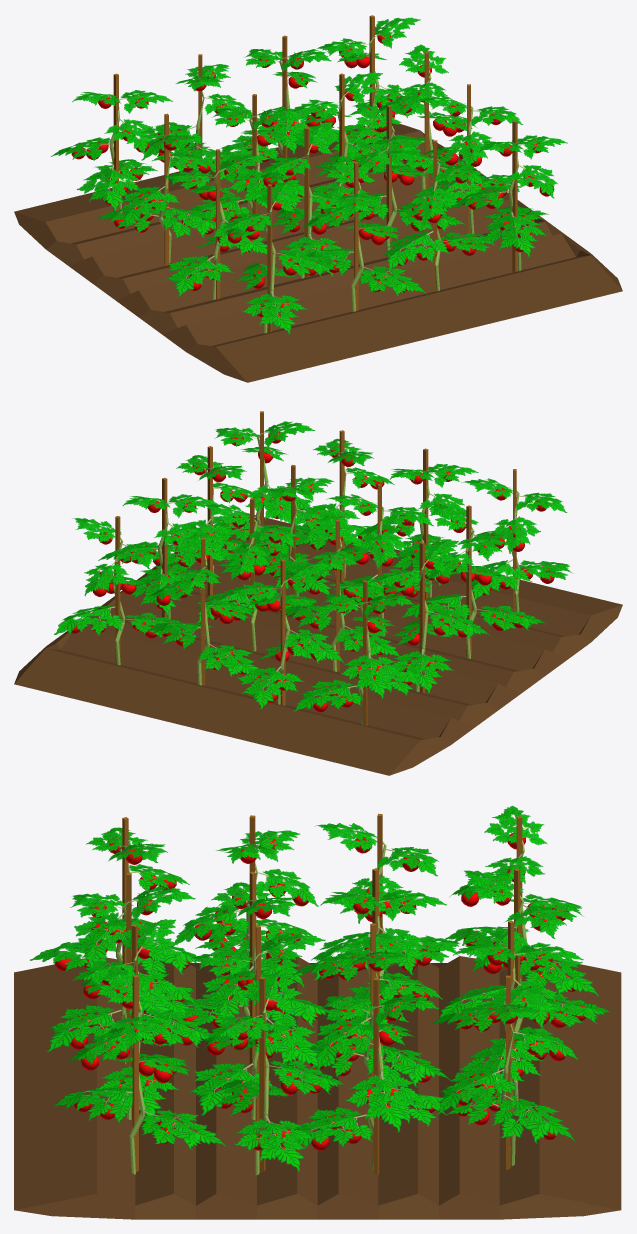
Rendered from tomato-stage3-w-Dirt.glb.
The picture shows the model from 3 angles, top to bottom: view 1: azimuth 30°, elevation 25°; view 2: azimuth 150°, elevation 25°; view 3: azimuth 270°, elevation 25°; orthographic projection. The views are drawn at different scales.
Visible parts, largest first — view 1: Tomatoe_F3, Soil.002; view 2: Tomatoe_F3, Soil.002; view 3: Tomatoe_F3, Soil.002.
Part boxes in pixels (x1,y1,x2,y2): Tomatoe_F3: (51, 15, 567, 334); Soil.002: (14, 123, 622, 382); Tomatoe_F3: (54, 411, 573, 725); Soil.002: (14, 513, 622, 775); Tomatoe_F3: (30, 805, 613, 1175); Soil.002: (14, 956, 621, 1219).
Bounding box in the file's own units: 2.51 × 0.8909 × 2.51.
Materials: 2 (1 with a texture image).
